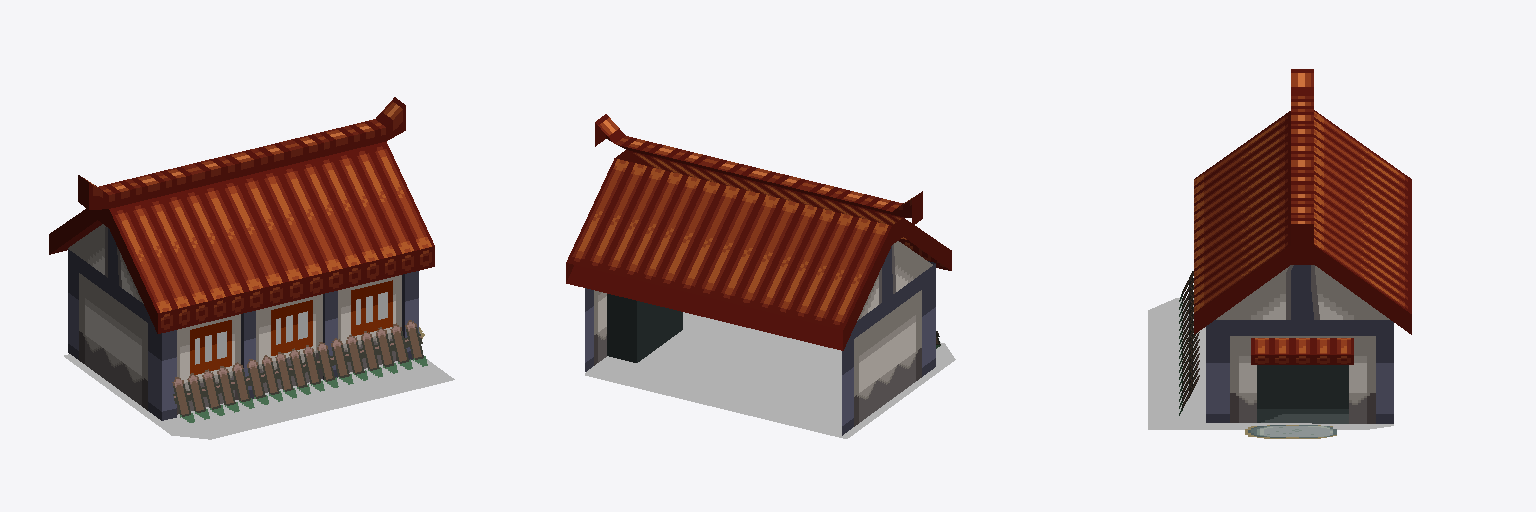
3 renders of one model, left to right at view 1: azimuth 30°, elevation 25°; view 2: azimuth 150°, elevation 25°; view 3: azimuth 270°, elevation 25°, orthographic.
Visible parts, largest first — view 1: polygon4, polygon1, polygon2, polygon3; view 2: polygon4, polygon2; view 3: polygon4, polygon2, polygon1, polygon0.
Boxes of the visible parts, x1=… form: polygon4: x1=49, y1=97, x2=434, y2=420; polygon1: x1=172, y1=320, x2=427, y2=422; polygon2: x1=64, y1=354, x2=454, y2=439; polygon3: x1=195, y1=292, x2=387, y2=364; polygon4: x1=566, y1=114, x2=951, y2=435; polygon2: x1=585, y1=312, x2=955, y2=438; polygon4: x1=1194, y1=69, x2=1411, y2=423; polygon2: x1=1148, y1=298, x2=1393, y2=429; polygon1: x1=1179, y1=271, x2=1199, y2=415; polygon0: x1=1245, y1=425, x2=1336, y2=438.
Bounding box in the file's own units: 130 × 83.69 × 92.
Materials: 5 (3 with a texture image).